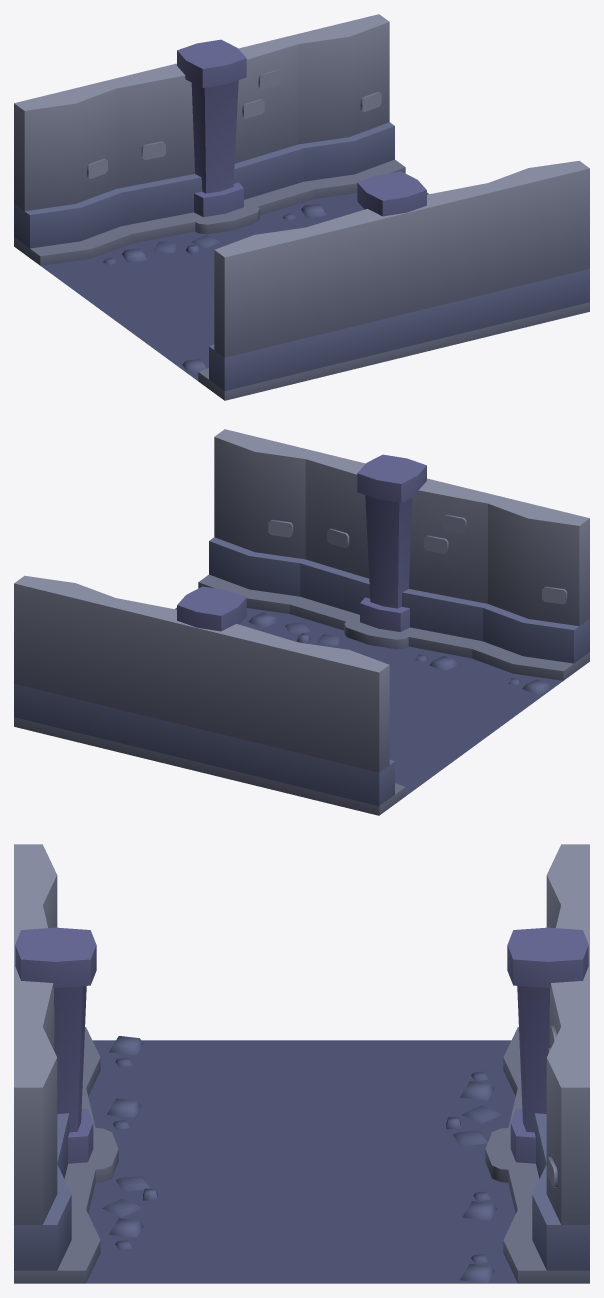
Rendered from corridor-wide.glb.
3 views of the same model, one above another, from view 1: azimuth 30°, elevation 25°; view 2: azimuth 150°, elevation 25°; view 3: azimuth 270°, elevation 25° (orthographic). The views are drawn at different scales.
Visible parts, largest first — view 1: corridor-wide; view 2: corridor-wide; view 3: corridor-wide.
Boxes of the visible parts, x1=… form: corridor-wide: x1=14, y1=14, x2=589, y2=400; corridor-wide: x1=14, y1=429, x2=589, y2=815; corridor-wide: x1=14, y1=844, x2=589, y2=1283.
Size of the model in its own units: 8 by 3.33 by 8.
